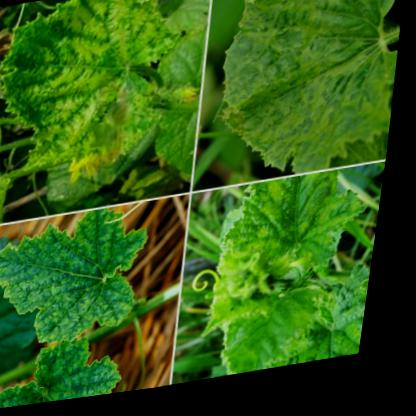CassavaMosaicDisease: (3, 0, 150, 118), (249, 0, 382, 130), (273, 273, 380, 378), (0, 334, 140, 411), (238, 196, 354, 282), (25, 239, 139, 318)
